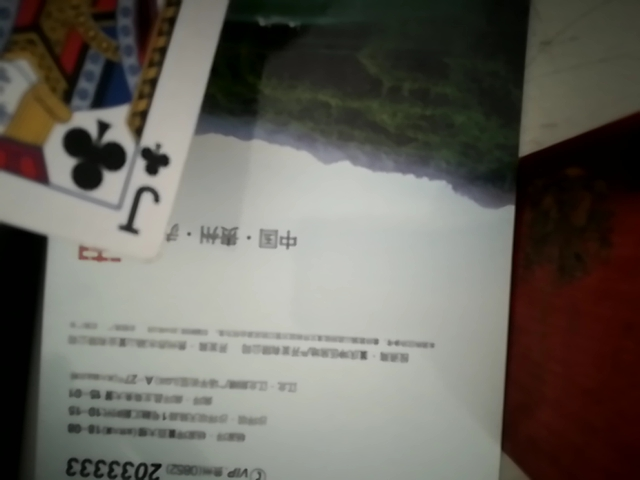mh j: (0, 3, 264, 270)
